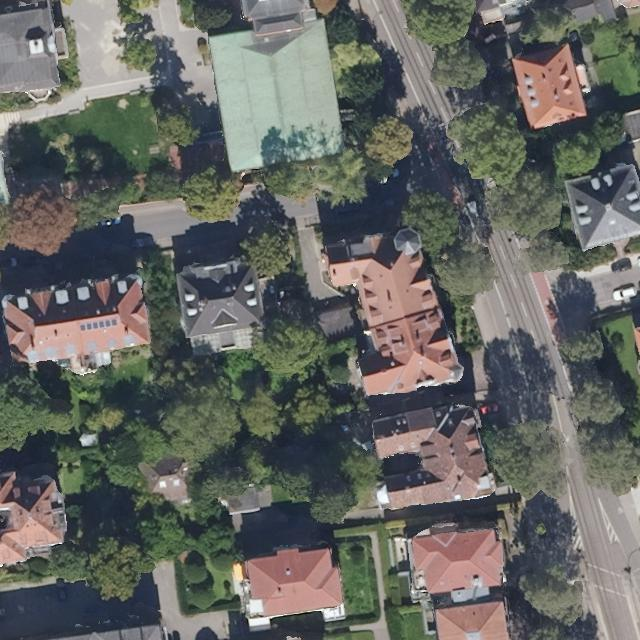PV: (79, 318, 118, 333)
